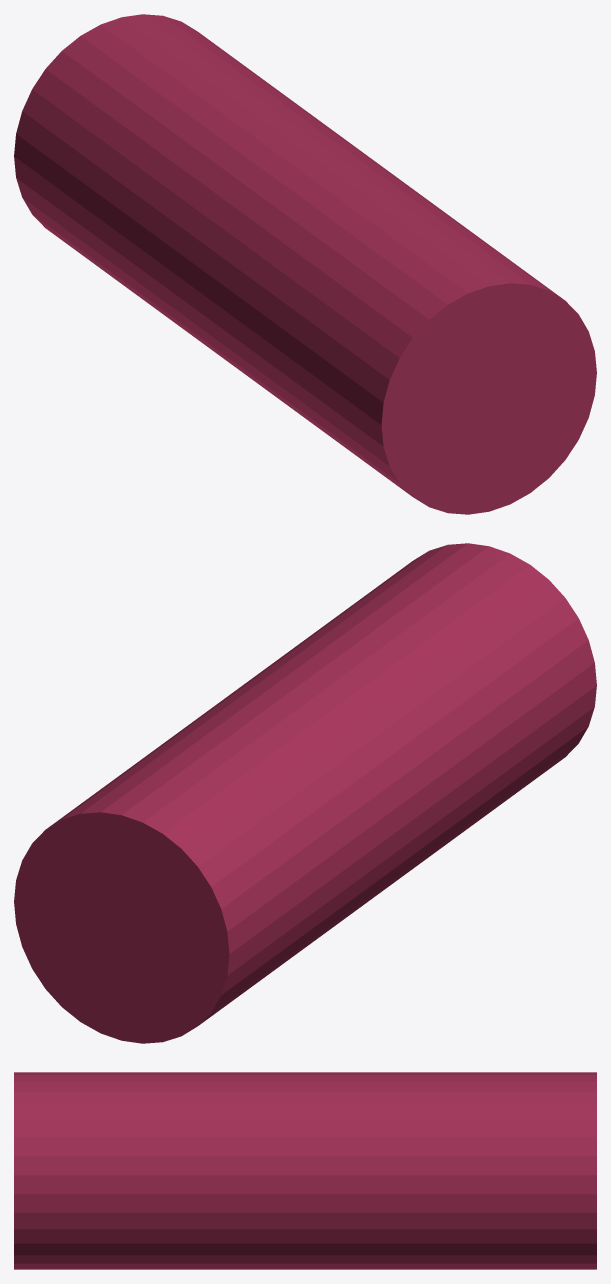
3 renders of one model, top to bottom at view 1: azimuth 30°, elevation 25°; view 2: azimuth 150°, elevation 25°; view 3: azimuth 270°, elevation 25°, orthographic. The views are drawn at different scales.
Parts seen in each view (by area): view 1: FS4_Cylinder.036; view 2: FS4_Cylinder.036; view 3: FS4_Cylinder.036.
Part boxes in pixels (<box>): FS4_Cylinder.036: <box>14,14,596,514</box>; FS4_Cylinder.036: <box>14,543,596,1043</box>; FS4_Cylinder.036: <box>14,1072,596,1269</box>.
Size of the model in its own units: 0.2473 by 0.2473 by 0.7307.
